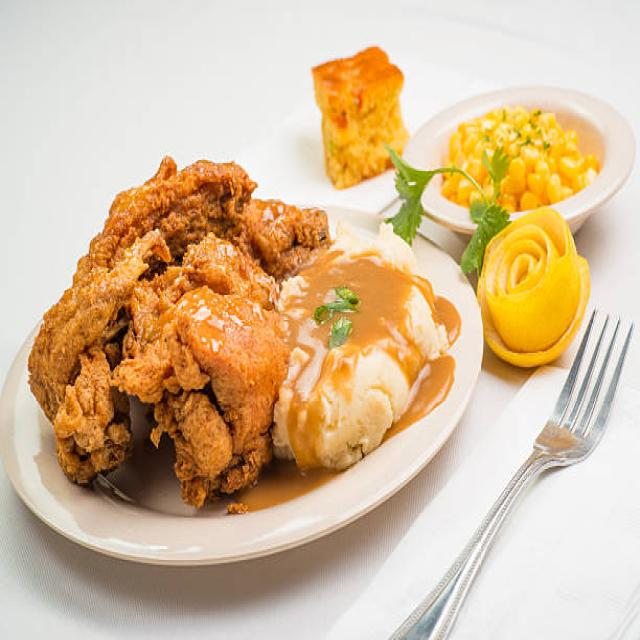Frango: (24, 147, 332, 513)
